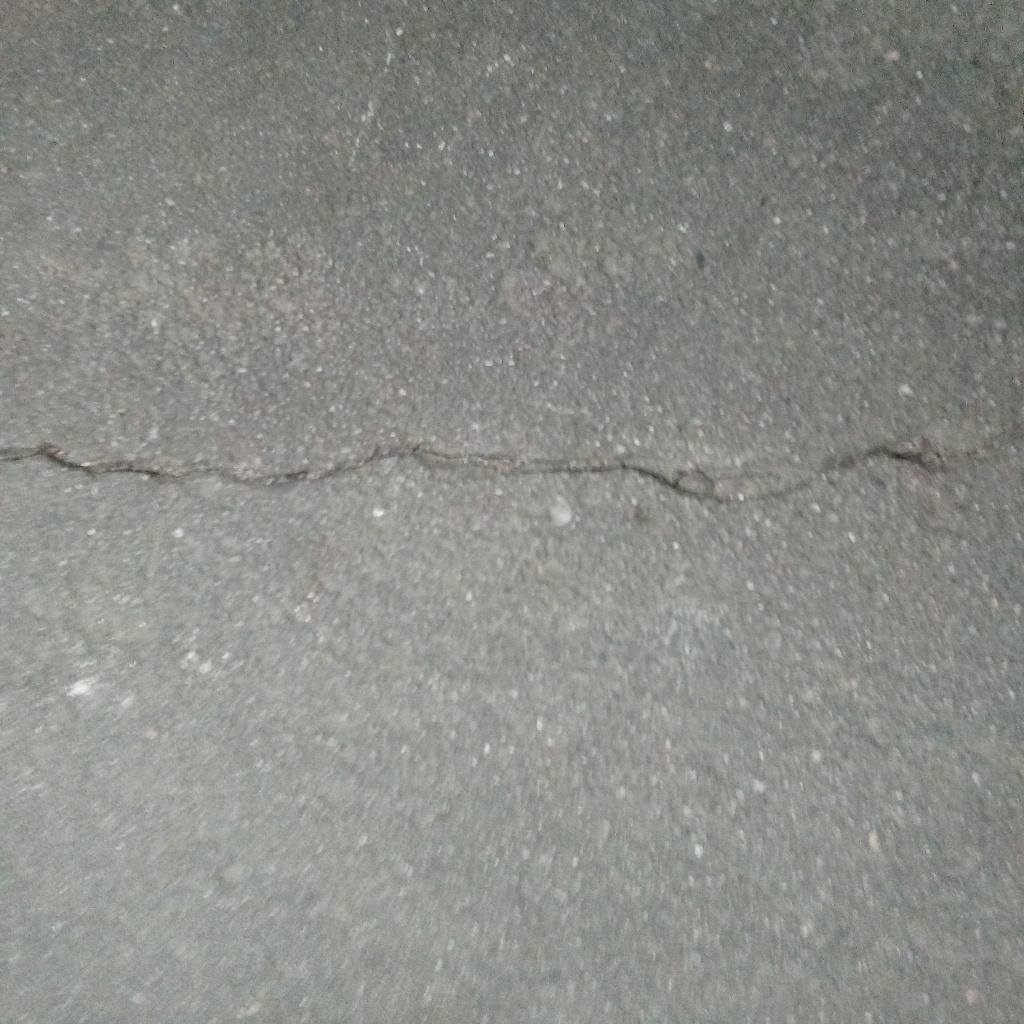Crack: (1, 443, 1024, 506)
